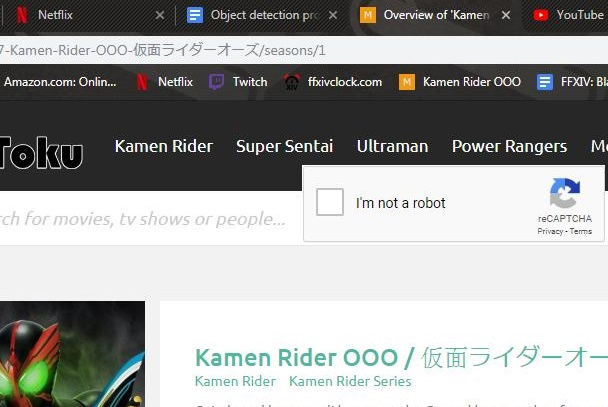captcha: (317, 188, 450, 216)
